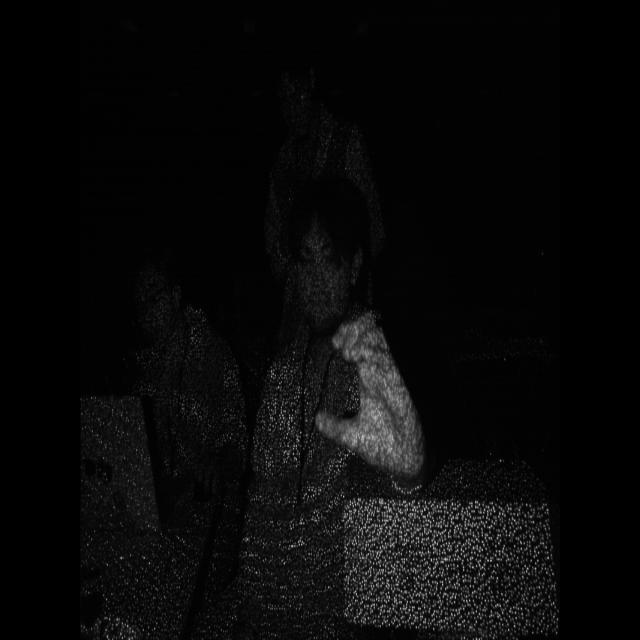C: (311, 289, 437, 501)
